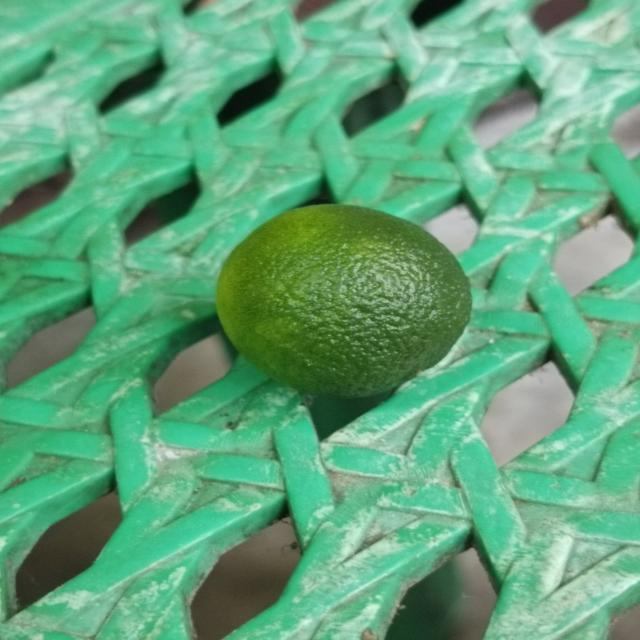heathy: (215, 201, 478, 400)
